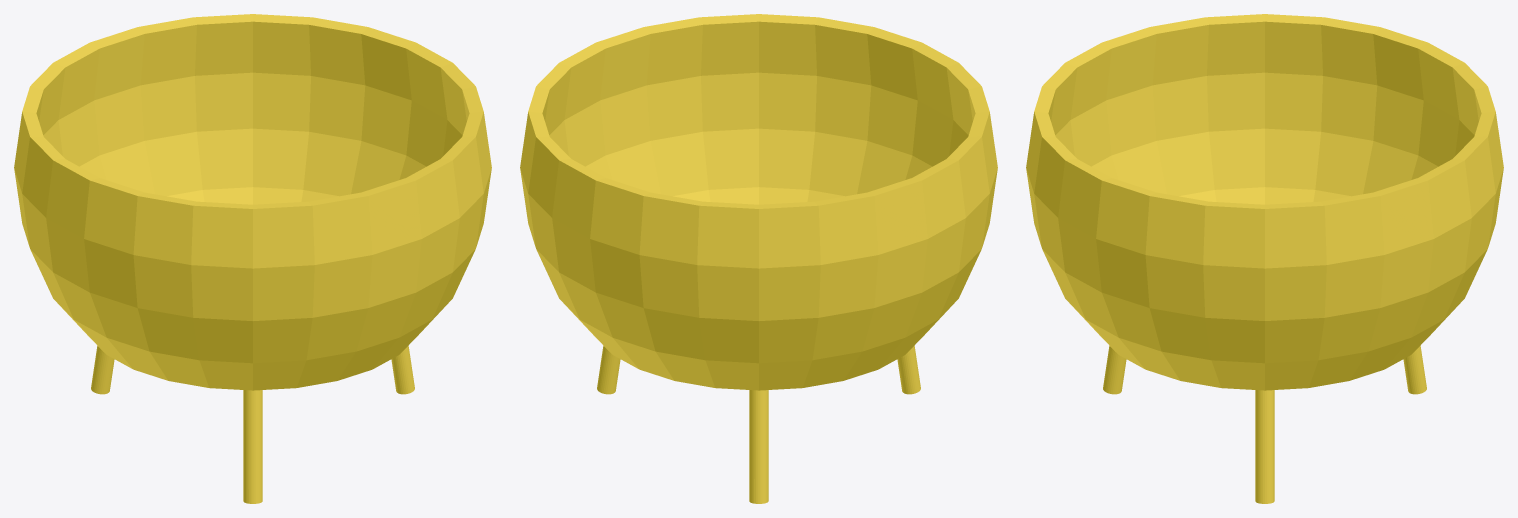
The model's file is crucible.glb.
3 views of the same model, side by side, from view 1: azimuth 30°, elevation 25°; view 2: azimuth 150°, elevation 25°; view 3: azimuth 270°, elevation 25° (orthographic).
Parts seen in each view (by area): view 1: Crucible; view 2: Crucible; view 3: Crucible.
Part boxes in pixels (box(x1,y1,x2,y2)): Crucible: box(14, 14, 491, 503); Crucible: box(520, 14, 997, 503); Crucible: box(1026, 14, 1503, 503).
Size of the model in its own units: 2 by 1.46 by 2.
